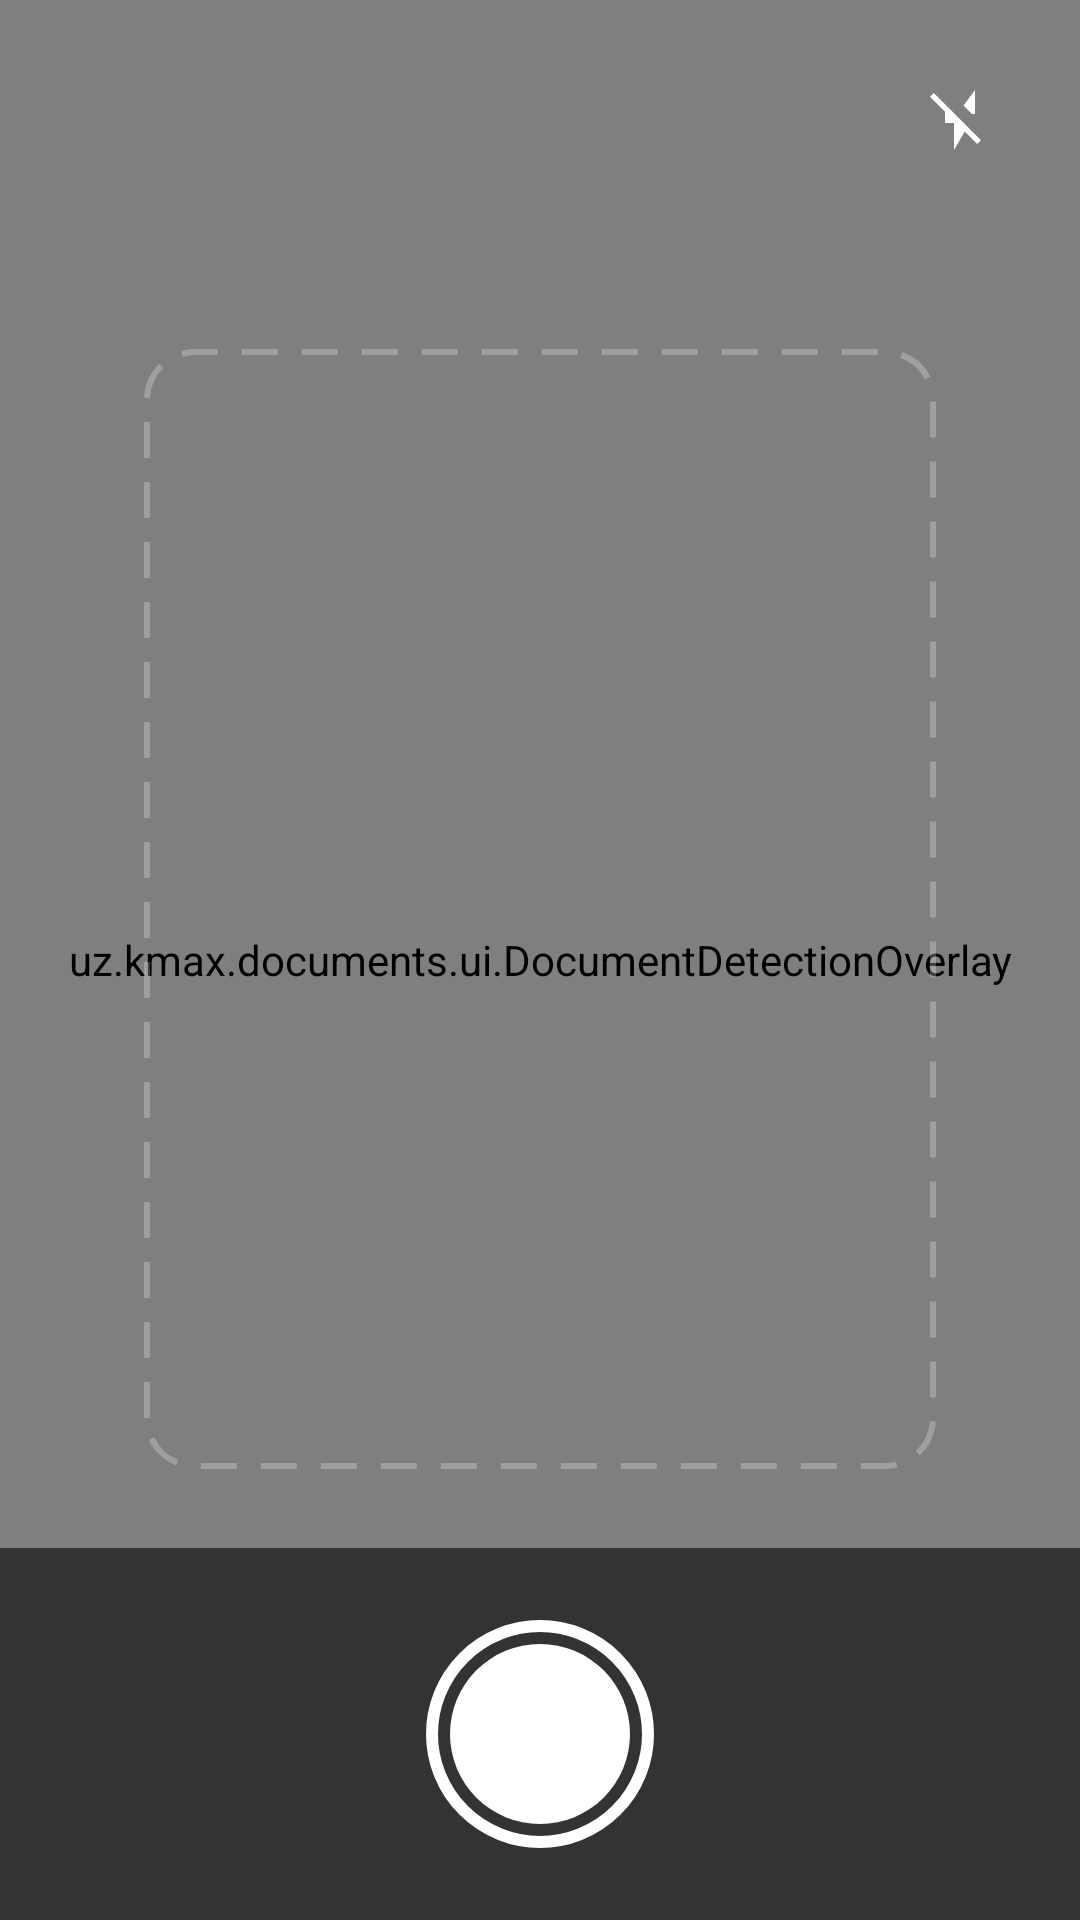

Icons on this 1080 x 1920 Android screen, each with its box as (x1, y1, x2, y2):
Toggle flash: (930, 90, 981, 150)
